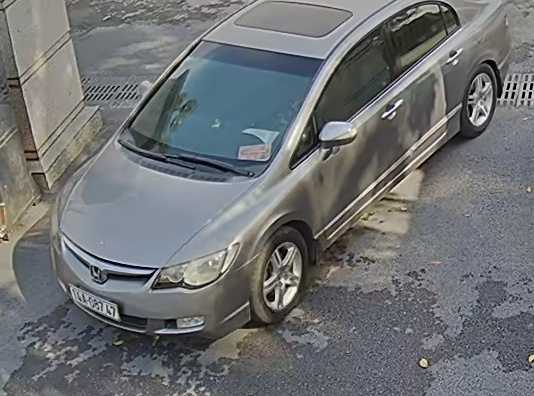vehicle plate: (62, 277, 122, 322)
